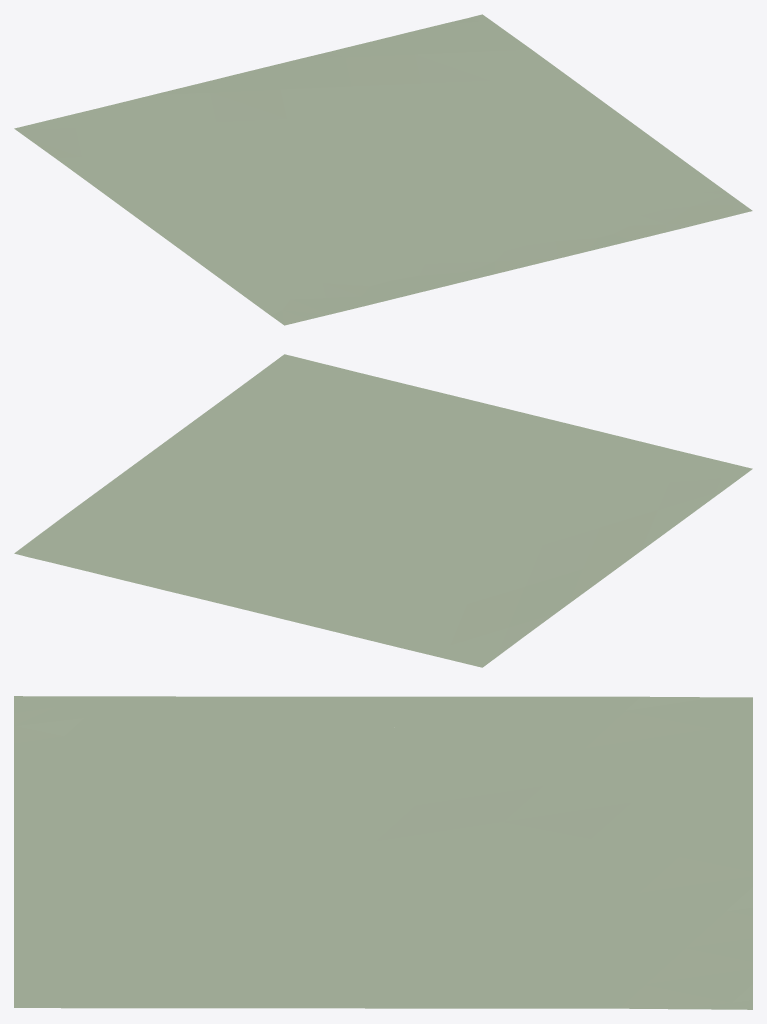
File: SM_MPRR_Terrain_0_1.fbx
3 views of the same model, one above another, from view 1: azimuth 30°, elevation 25°; view 2: azimuth 150°, elevation 25°; view 3: azimuth 270°, elevation 25° (orthographic). The views are drawn at different scales.
Parts seen in each view (by area): view 1: SM_MPRR_Terrain_0_1; view 2: SM_MPRR_Terrain_0_1; view 3: SM_MPRR_Terrain_0_1.
Part boxes in pixels (x1=…): SM_MPRR_Terrain_0_1: x1=14, y1=14, x2=752, y2=325; SM_MPRR_Terrain_0_1: x1=14, y1=354, x2=752, y2=667; SM_MPRR_Terrain_0_1: x1=14, y1=696, x2=752, y2=1009.
Size of the model in its own units: 15000 by 15000 by 47.87.
